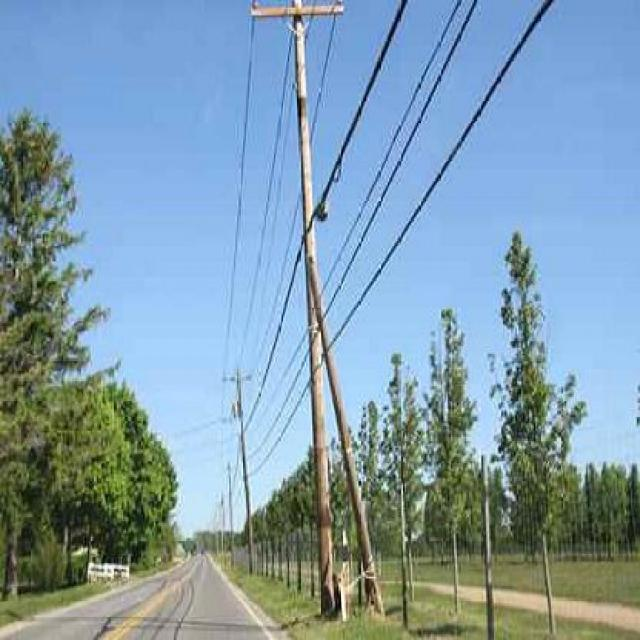pole: (249, 0, 367, 615)
